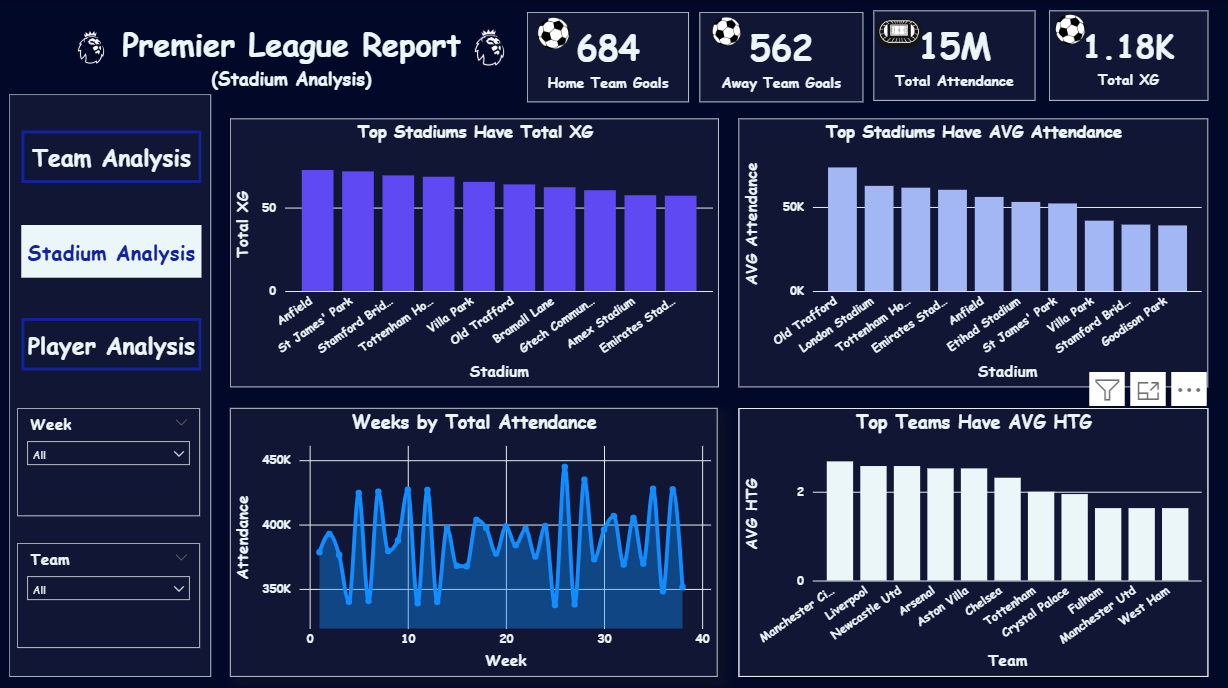

This screenshot's page, from the dashboard's own definition file:
{"tool":"powerbi","page":{"name":"Stadium Analysis","canvas":[1280,720],"ordinal":1},"visuals":[{"type":"textbox","box":[114.1,0,381.4,136],"z":0},{"type":"image","box":[23,0,144.3,98.4],"z":1000},{"type":"shape","box":[11.5,98.4,209.8,606.6],"z":2000},{"type":"image","box":[413.1,0,196.7,98.4],"z":3000},{"type":"slicer","fields":{"Values":["DimDate.Week"]},"box":[18.8,425.1,190.7,112.5],"z":4000},{"type":"slicer","fields":{"Values":["DimTeam.Team"]},"box":[18.8,565.8,190.7,109.4],"z":5000},{"type":"lineChart","title":"Weeks by Total Attendance","fields":{"Category":["DimDate.Week"],"Y":["Sum(FactMatch.Attendance)"]},"box":[240.7,425.1,508,279.8],"z":6000},{"type":"clusteredColumnChart","title":"Top Stadiums Have AVG Attendance","fields":{"Category":["DimStadium.Stadium"],"Y":["Avg(FactMatch.Attendance)"]},"box":[770.6,123.5,489.2,279.8],"z":7000},{"type":"clusteredColumnChart","title":"Top Teams Have AVG HTG","fields":{"Y":["Avg(FactMatch.HTG)"],"Category":["DimTeam.Team"]},"box":[770.6,425.1,489.2,279.8],"z":8000},{"type":"clusteredColumnChart","title":"Top Stadiums Have Total XG","fields":{"Category":["DimStadium.Stadium"],"Y":["Sum(FactMatch.TXG)"]},"box":[240.7,123.5,509.5,279.8],"z":9000},{"type":"card","fields":{"Values":["Sum(FactMatch.TXG)"]},"box":[1094.1,10.9,165.7,93.8],"z":10000},{"type":"card","fields":{"Values":["Sum(FactMatch.Attendance)"]},"box":[911.2,10.9,168.8,93.8],"z":11000},{"type":"card","fields":{"Values":["Sum(FactMatch.ATG)"]},"box":[729.9,12.5,170.4,93.8],"z":12000},{"type":"card","fields":{"Values":["Sum(FactMatch.HTG)"]},"box":[550.2,12.5,168.8,93.8],"z":13000},{"type":"image","box":[880,0,115.7,68.8],"z":14000},{"type":"image","box":[1091,7.8,50,45.3],"z":15000},{"type":"image","box":[736.2,9.4,43.8,46.9],"z":16000},{"type":"image","box":[550.2,10.9,54.7,46.9],"z":17000},{"type":"actionButton","box":[23.4,234.4,187.6,54.7],"z":18000},{"type":"actionButton","box":[23.4,136,187.6,54.7],"z":19000},{"type":"actionButton","box":[23.4,331.4,187.6,54.7],"z":20000}]}

Visuals, with their boxes in screenshot pixels (x1, y1, x2, y2), scaled from the page's 1280x720 canvas onto the 1228x688 screenshot:
textbox: [x1=109, y1=0, x2=475, y2=130]
image: [x1=22, y1=0, x2=161, y2=94]
shape: [x1=11, y1=94, x2=212, y2=674]
image: [x1=396, y1=0, x2=585, y2=94]
slicer - DimDate.Week: [x1=18, y1=406, x2=201, y2=514]
slicer - DimTeam.Team: [x1=18, y1=541, x2=201, y2=645]
"Weeks by Total Attendance" lineChart: [x1=231, y1=406, x2=718, y2=674]
"Top Stadiums Have AVG Attendance" clusteredColumnChart: [x1=739, y1=118, x2=1209, y2=385]
"Top Teams Have AVG HTG" clusteredColumnChart: [x1=739, y1=406, x2=1209, y2=674]
"Top Stadiums Have Total XG" clusteredColumnChart: [x1=231, y1=118, x2=720, y2=385]
card - Sum(FactMatch.TXG): [x1=1050, y1=10, x2=1209, y2=100]
card - Sum(FactMatch.Attendance): [x1=874, y1=10, x2=1036, y2=100]
card - Sum(FactMatch.ATG): [x1=700, y1=12, x2=864, y2=102]
card - Sum(FactMatch.HTG): [x1=528, y1=12, x2=690, y2=102]
image: [x1=844, y1=0, x2=955, y2=66]
image: [x1=1047, y1=7, x2=1095, y2=51]
image: [x1=706, y1=9, x2=748, y2=54]
image: [x1=528, y1=10, x2=580, y2=55]
actionButton: [x1=22, y1=224, x2=202, y2=276]
actionButton: [x1=22, y1=130, x2=202, y2=182]
actionButton: [x1=22, y1=317, x2=202, y2=369]
